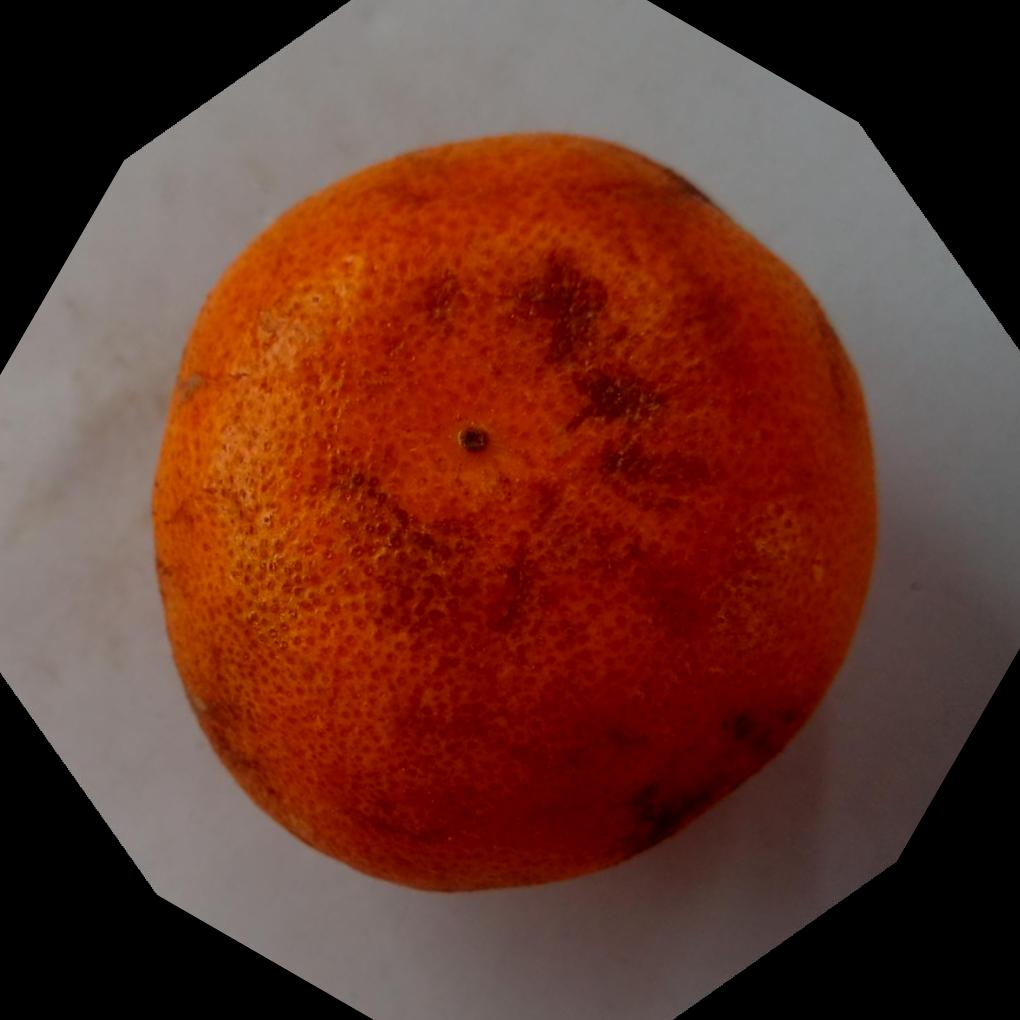FreshOrange: (145, 131, 880, 898)
